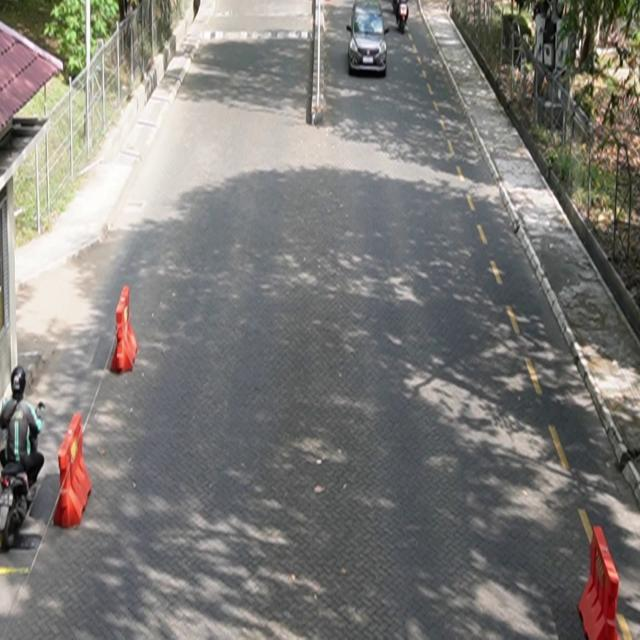car: (346, 1, 390, 77)
